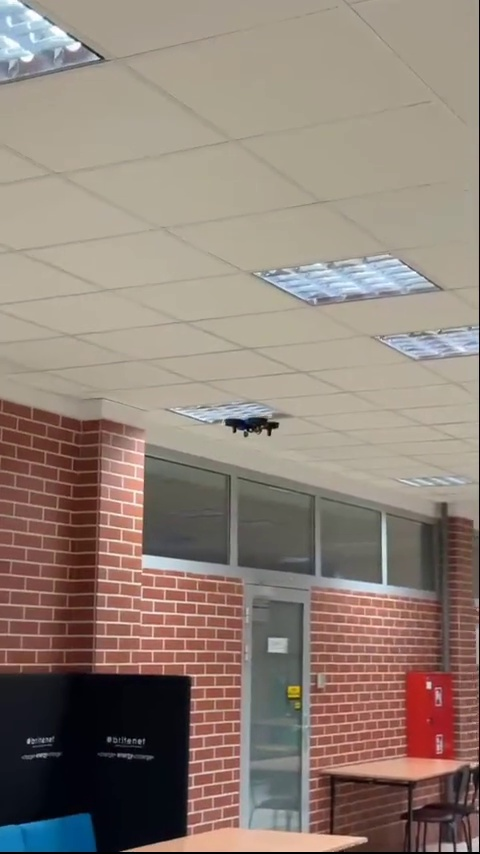drone: (225, 413, 278, 439)
